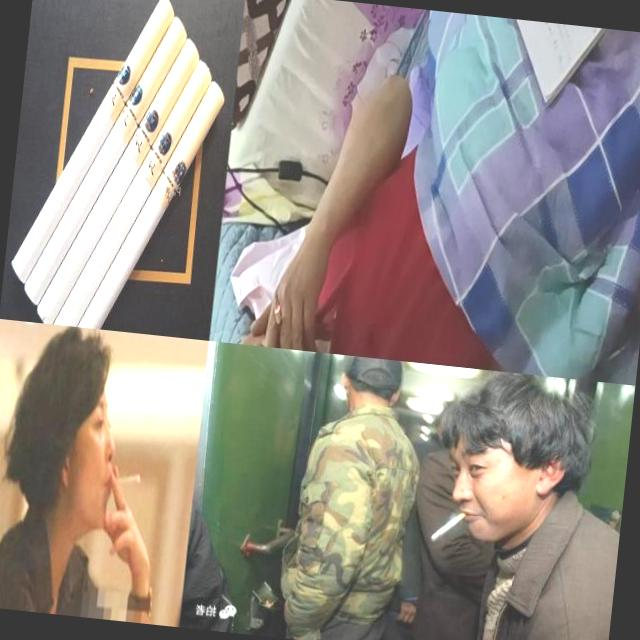smoke: (22, 2, 190, 318), (34, 24, 201, 336), (8, 0, 176, 295), (50, 46, 214, 337), (64, 67, 226, 339), (428, 508, 466, 546), (269, 294, 286, 336), (116, 470, 141, 489)
